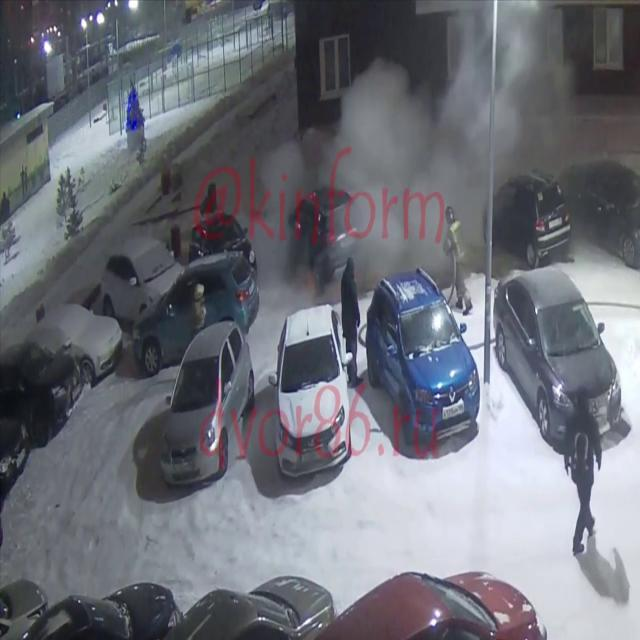Smoke: (320, 2, 582, 262)
